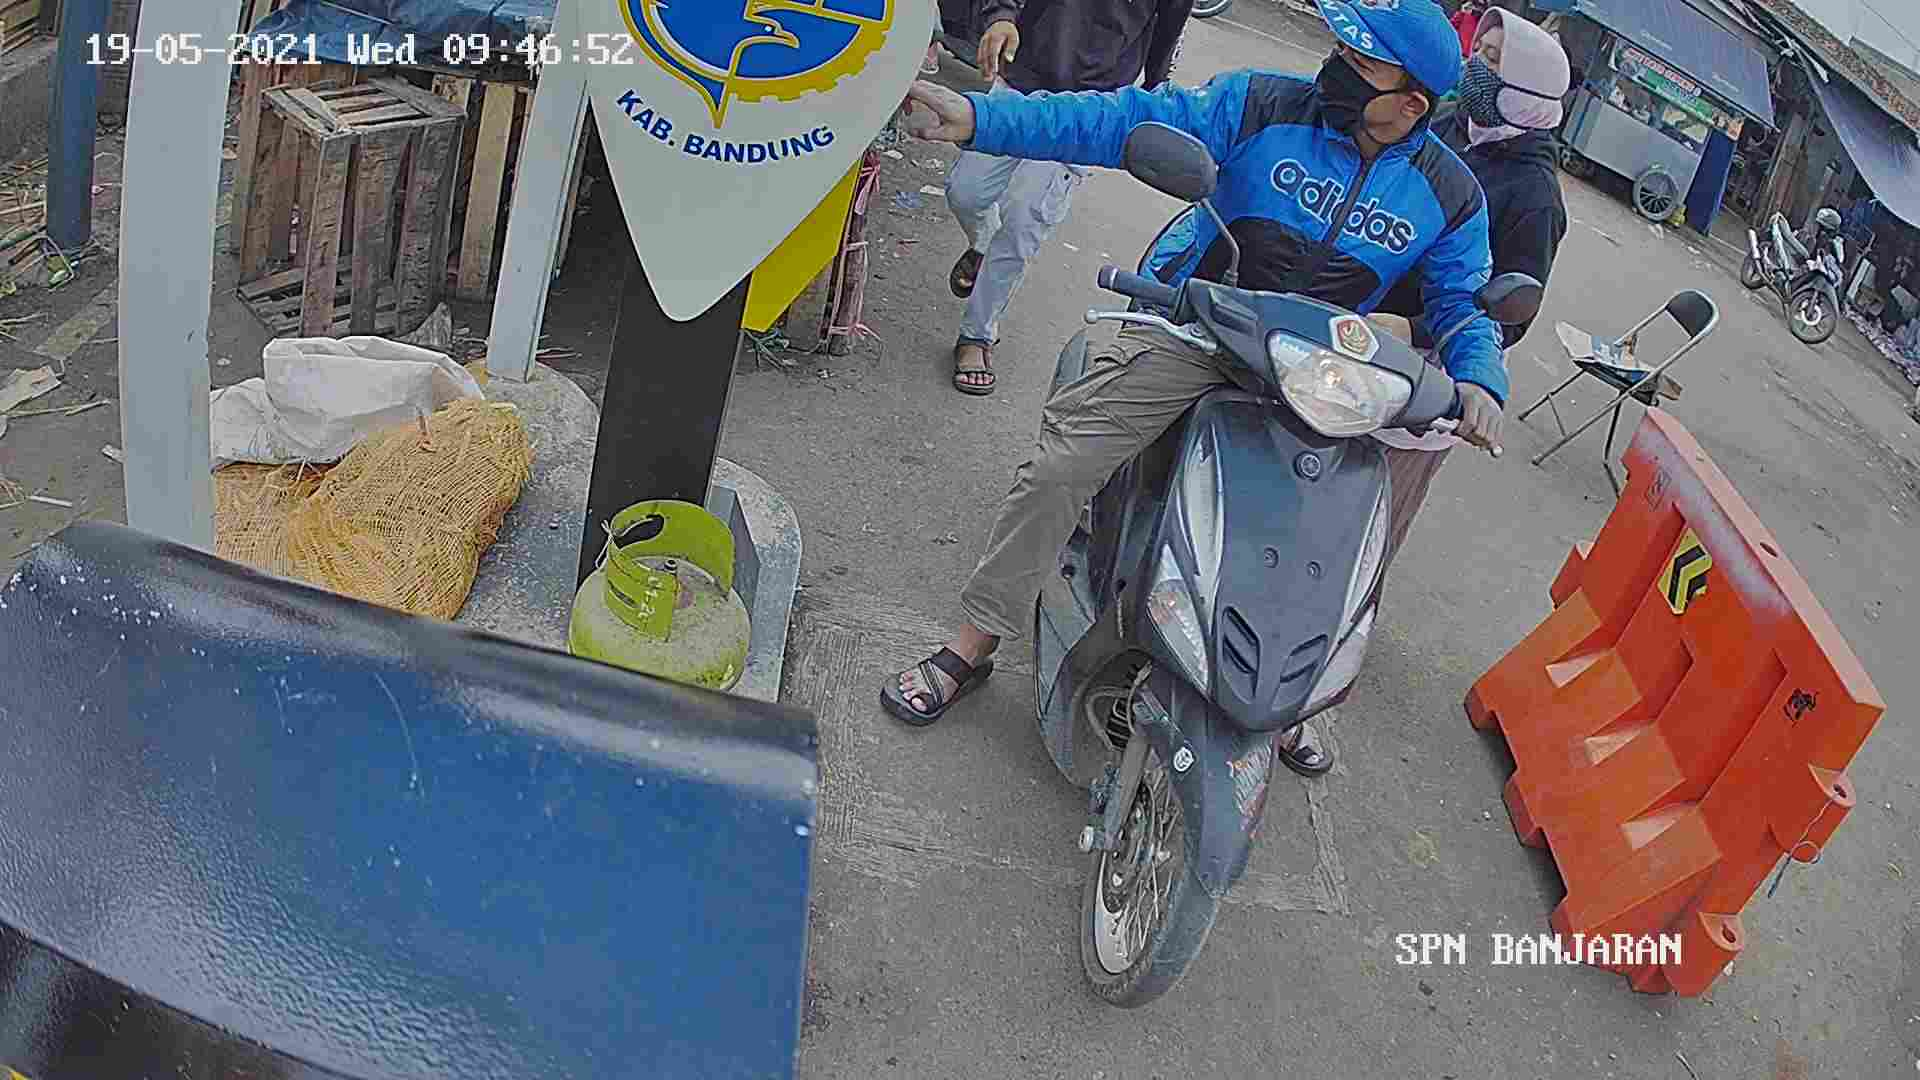motor: (1062, 244, 1466, 1035)
